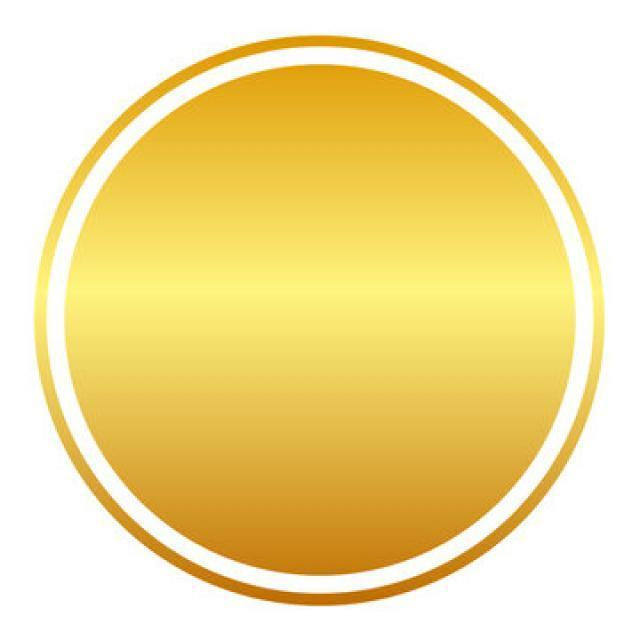Circle: (32, 35, 604, 606)
